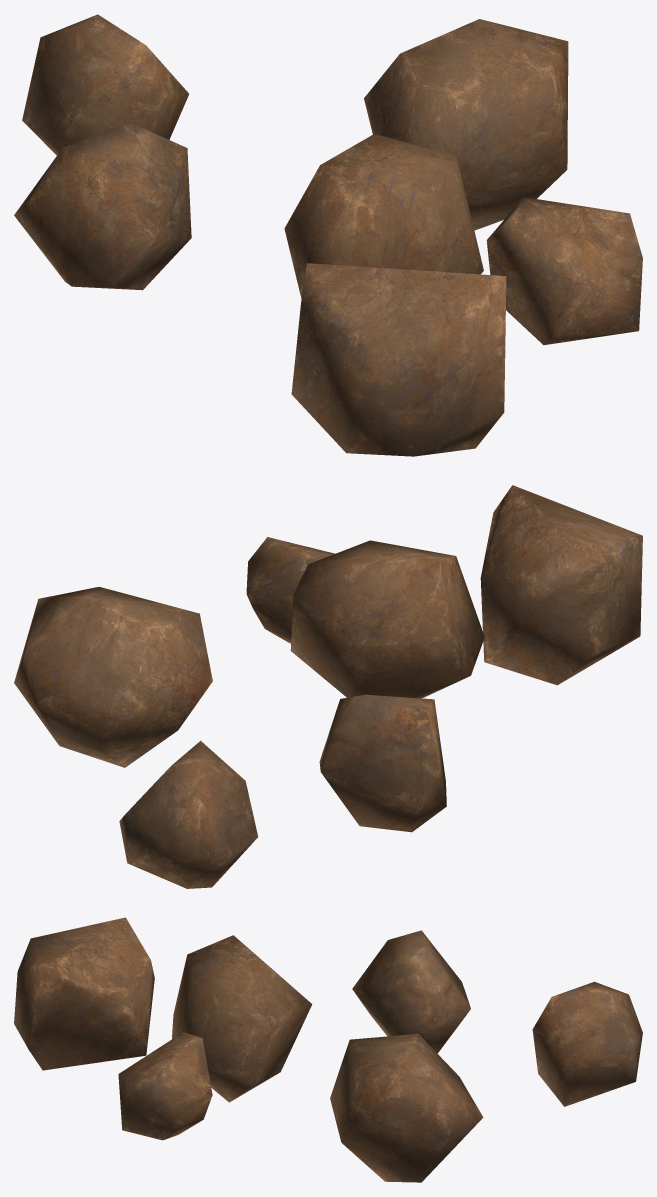
The model's file is Stones_Tiny2.fbx.
3 renders of one model, top to bottom at view 1: azimuth 30°, elevation 25°; view 2: azimuth 150°, elevation 25°; view 3: azimuth 270°, elevation 25°, orthographic. The views are drawn at different scales.
Parts seen in each view (by area): view 1: polySurface221; view 2: polySurface221; view 3: polySurface221.
Part boxes in pixels (left/top/right/bottom): polySurface221: left=14, top=14, right=642, bottom=456; polySurface221: left=14, top=485, right=642, bottom=888; polySurface221: left=14, top=917, right=642, bottom=1182.
Size of the model in its own units: 19.33 by 8.07 by 29.74.
